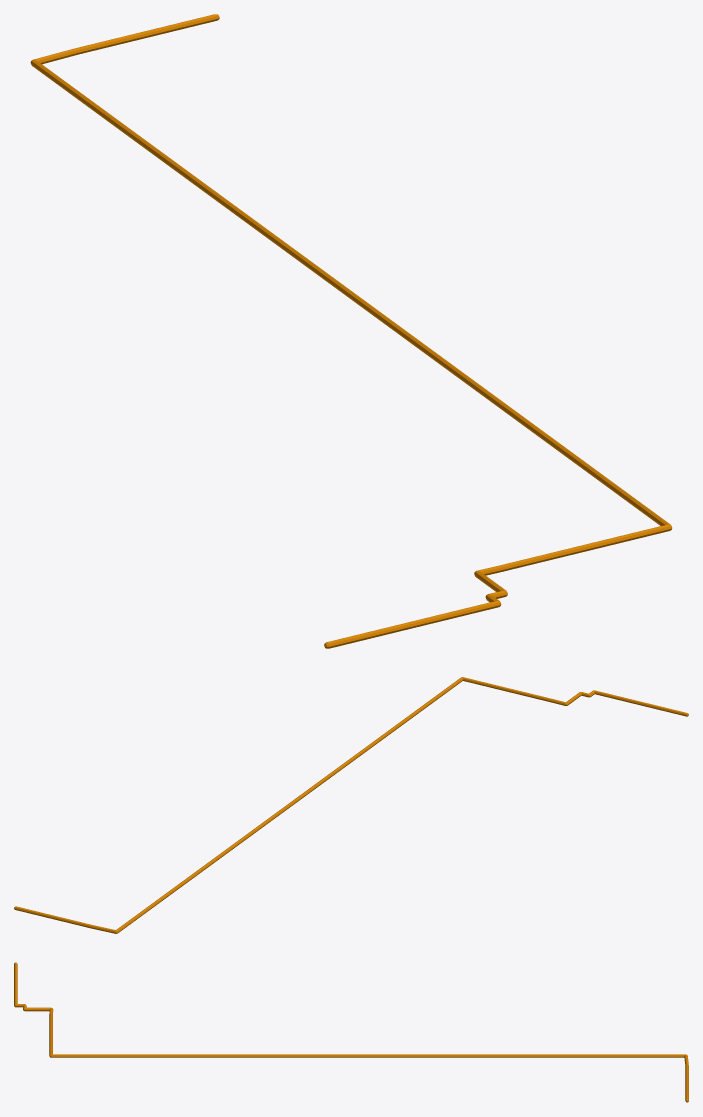
3 views of the same model, one above another, from view 1: azimuth 30°, elevation 25°; view 2: azimuth 150°, elevation 25°; view 3: azimuth 270°, elevation 25° (orthographic). The views are drawn at different scales.
Bounding box in the file's own units: 1828 × 20 × 3774.
